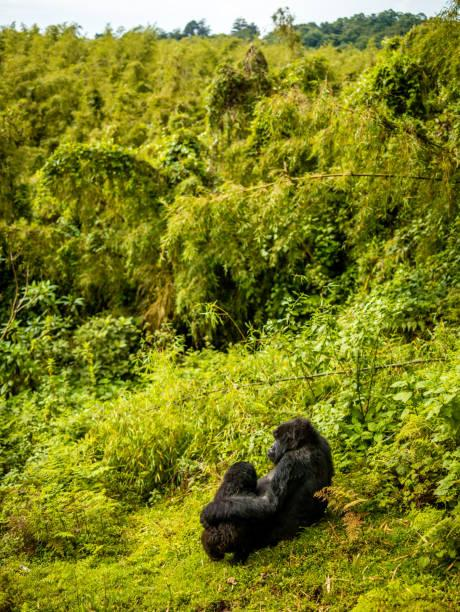goriile_montagne: (251, 419, 335, 545), (212, 449, 271, 550)
